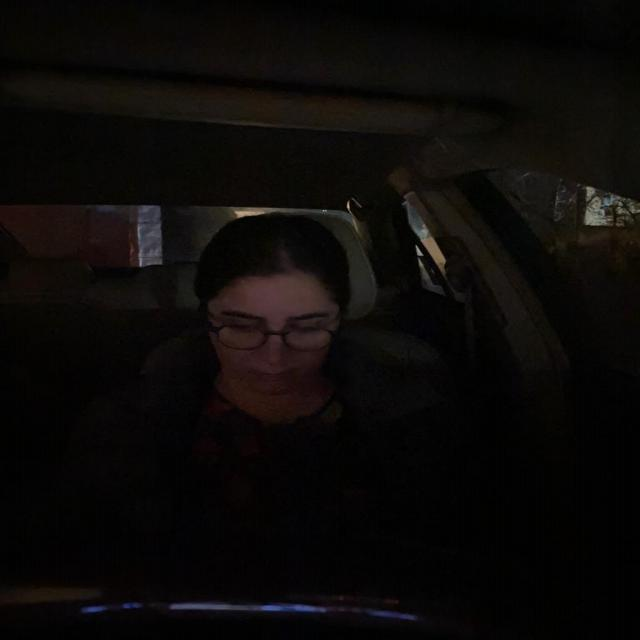drowsy: (186, 227, 345, 390)
